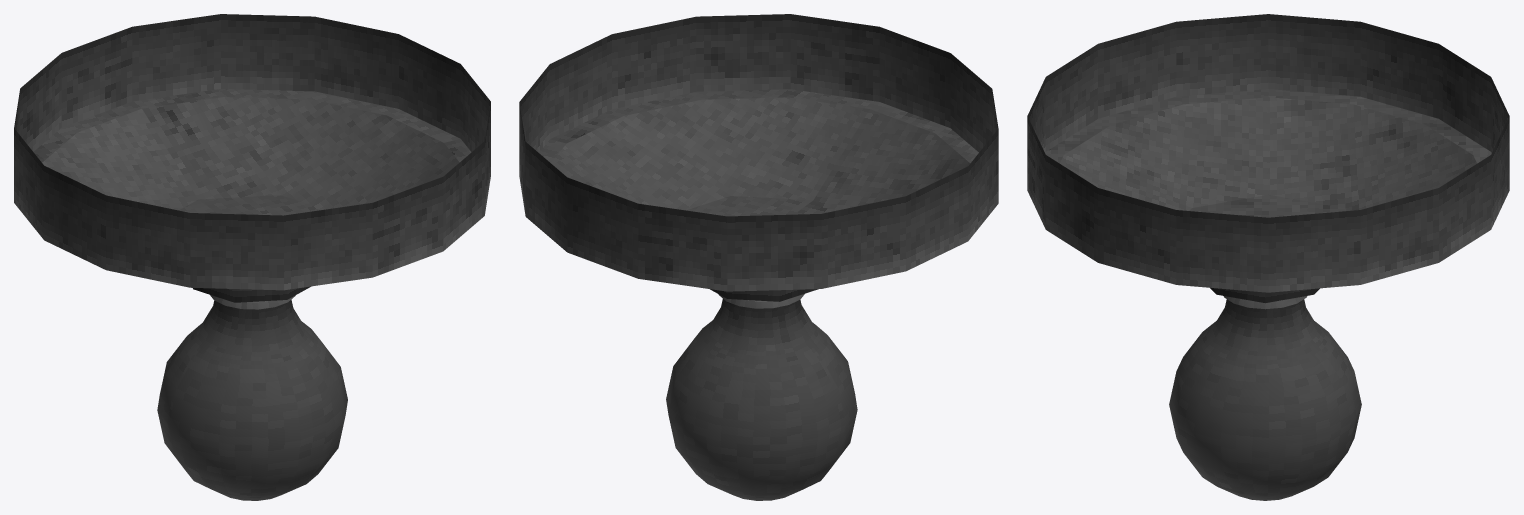
The model's file is ceiling_lamp_mp_1_off.glb.
3 renders of one model, left to right at view 1: azimuth 30°, elevation 25°; view 2: azimuth 150°, elevation 25°; view 3: azimuth 270°, elevation 25°, orthographic.
Parts seen in each view (by area): view 1: ceiling_lamp_mp_1_off; view 2: ceiling_lamp_mp_1_off; view 3: ceiling_lamp_mp_1_off.
Boxes of the visible parts, x1,y1,x2,y2 form: ceiling_lamp_mp_1_off: (14, 14, 490, 500); ceiling_lamp_mp_1_off: (519, 14, 998, 500); ceiling_lamp_mp_1_off: (1027, 14, 1509, 500).
Bounding box in the file's own units: 0.215 × 0.1855 × 0.215.
Materials: 2 (2 with a texture image).
